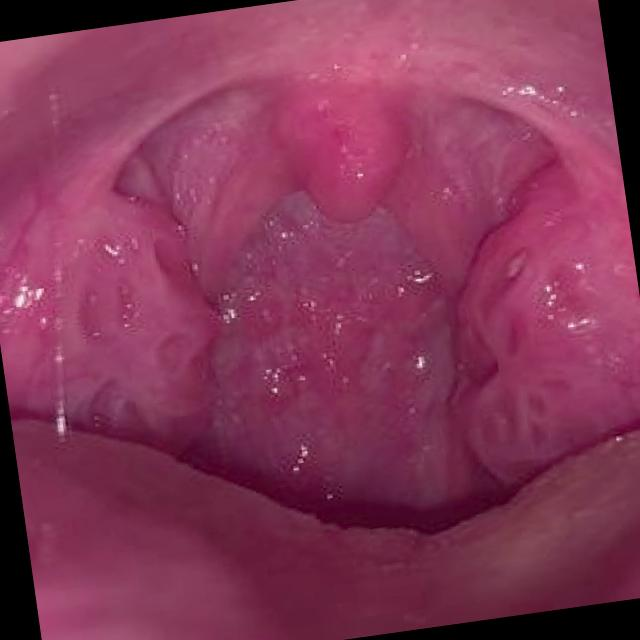Non Pharyngitis: (417, 160, 640, 508), (13, 179, 260, 475)
